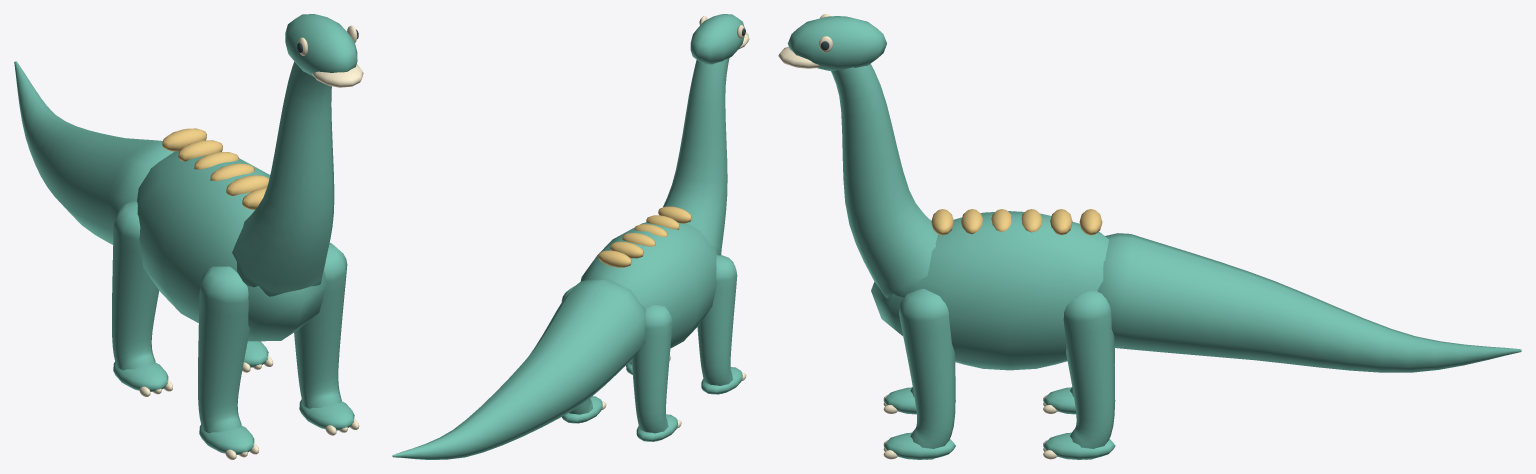
File: lost-valley-dinosaurs-brachiosaurus-a1894bc2__1666.glb
The picture shows the model from 3 angles, left to right: view 1: azimuth 30°, elevation 25°; view 2: azimuth 150°, elevation 25°; view 3: azimuth 270°, elevation 25°; orthographic projection. The views are drawn at different scales.
Visible parts, largest first — view 1: brachiosaurus; view 2: brachiosaurus; view 3: brachiosaurus.
Part boxes in pixels (left/top/right/bottom): brachiosaurus: left=14, top=14, right=363, bottom=459; brachiosaurus: left=392, top=14, right=749, bottom=459; brachiosaurus: left=778, top=14, right=1521, bottom=459.
Size of the model in its own units: 1.58 by 4.8 by 7.77.
